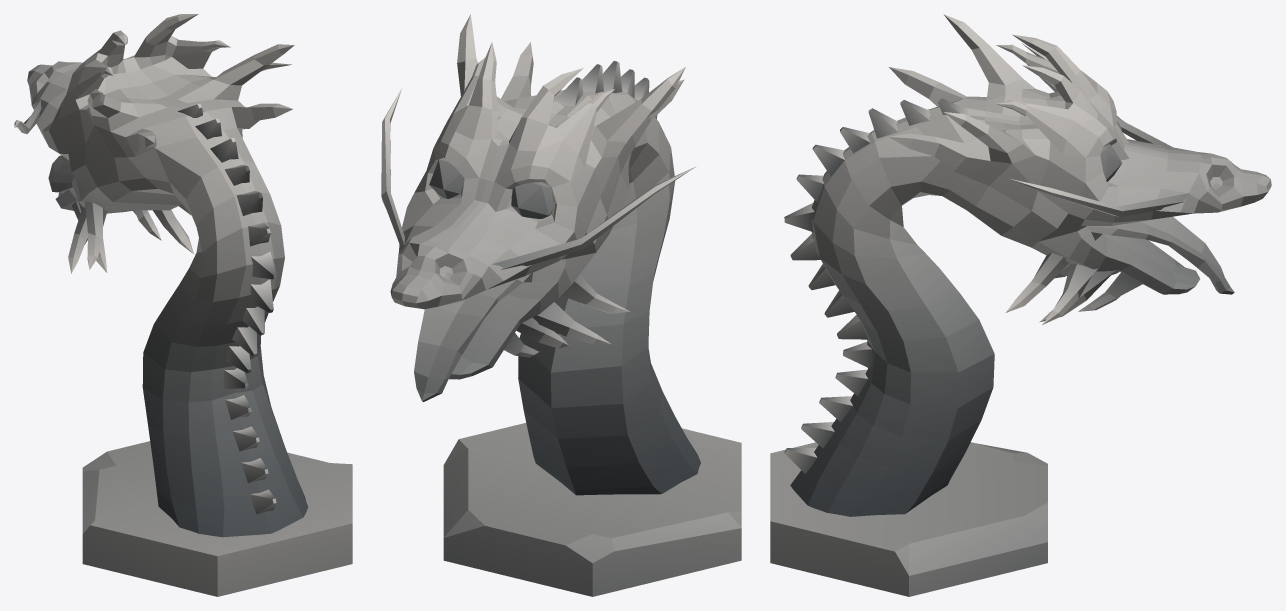
File: dragonStatue.fbx
3 renders of one model, left to right at view 1: azimuth 30°, elevation 25°; view 2: azimuth 150°, elevation 25°; view 3: azimuth 270°, elevation 25°, orthographic. The views are drawn at different scales.
Parts seen in each view (by area): view 1: DragonLod1; view 2: DragonLod1; view 3: DragonLod1.
Part boxes in pixels (x1,y1,x2,y2): DragonLod1: [14, 14, 352, 596]; DragonLod1: [381, 14, 741, 596]; DragonLod1: [770, 14, 1271, 596].
Bounding box in the file's own units: 94.84 × 150 × 141.
